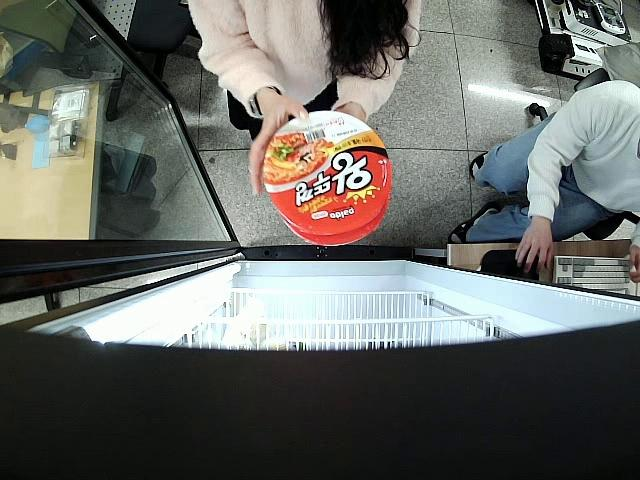00_hand: (248, 96, 310, 199), (515, 221, 554, 276)
10_wangTtukkeong: (265, 111, 392, 237)
